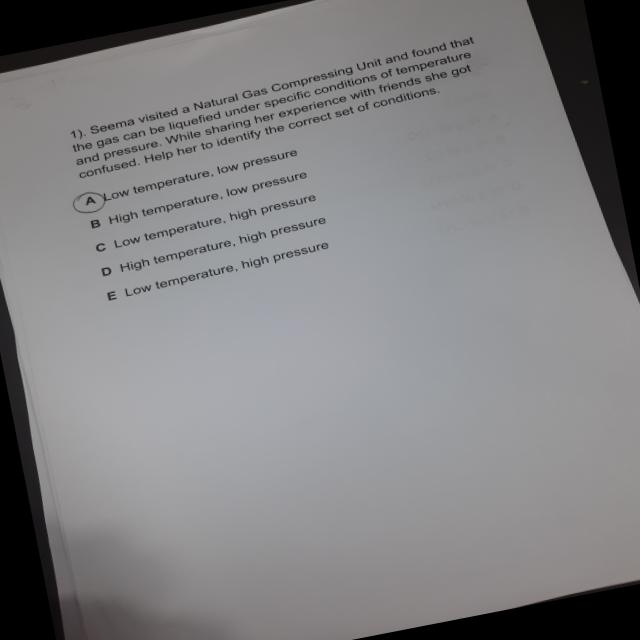A: (68, 188, 113, 221)
